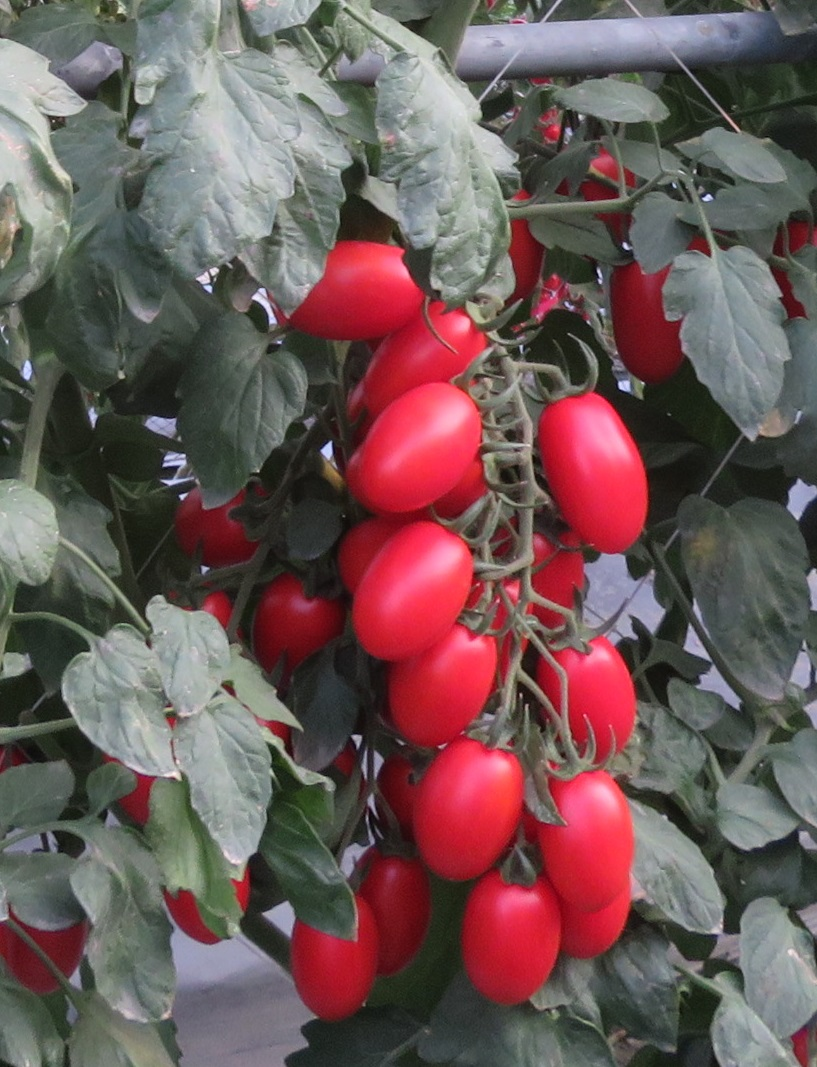red: (535, 391, 652, 553), (349, 516, 479, 657), (415, 724, 531, 882), (358, 378, 487, 519), (537, 760, 638, 914), (275, 237, 427, 338), (359, 299, 493, 413), (536, 623, 638, 765), (460, 866, 563, 1003), (603, 250, 702, 387), (415, 614, 509, 741), (285, 899, 380, 1021), (490, 514, 587, 632), (244, 564, 343, 668), (354, 853, 433, 974), (1, 882, 87, 993), (170, 485, 276, 556), (555, 863, 633, 957)
